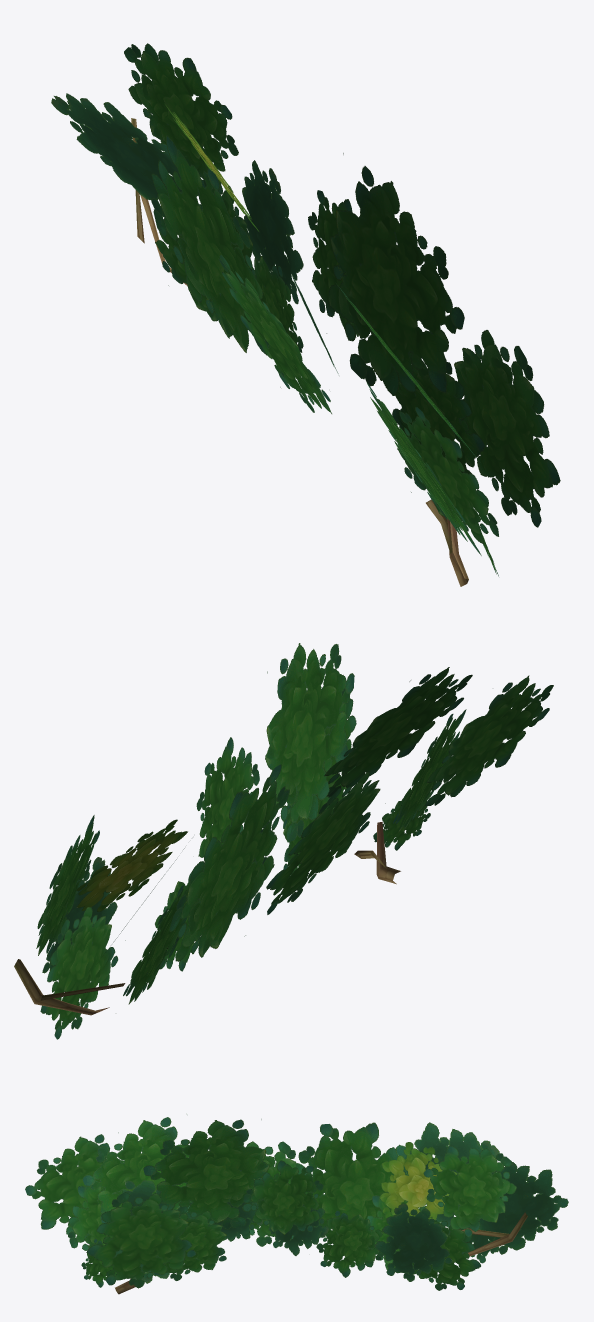
Rendered from zjm_xyezi.FBX.
The picture shows the model from 3 angles, top to bottom: view 1: azimuth 30°, elevation 25°; view 2: azimuth 150°, elevation 25°; view 3: azimuth 270°, elevation 25°; orthographic projection. The views are drawn at different scales.
Parts seen in each view (by area): view 1: shu444; view 2: shu444; view 3: shu444.
Boxes of the visible parts, x1,y1,x2,y2 form: shu444: (51,43,560,586); shu444: (14,643,553,1039); shu444: (25,1117,568,1294).
Size of the model in its own units: 843 by 3639 by 1360.
